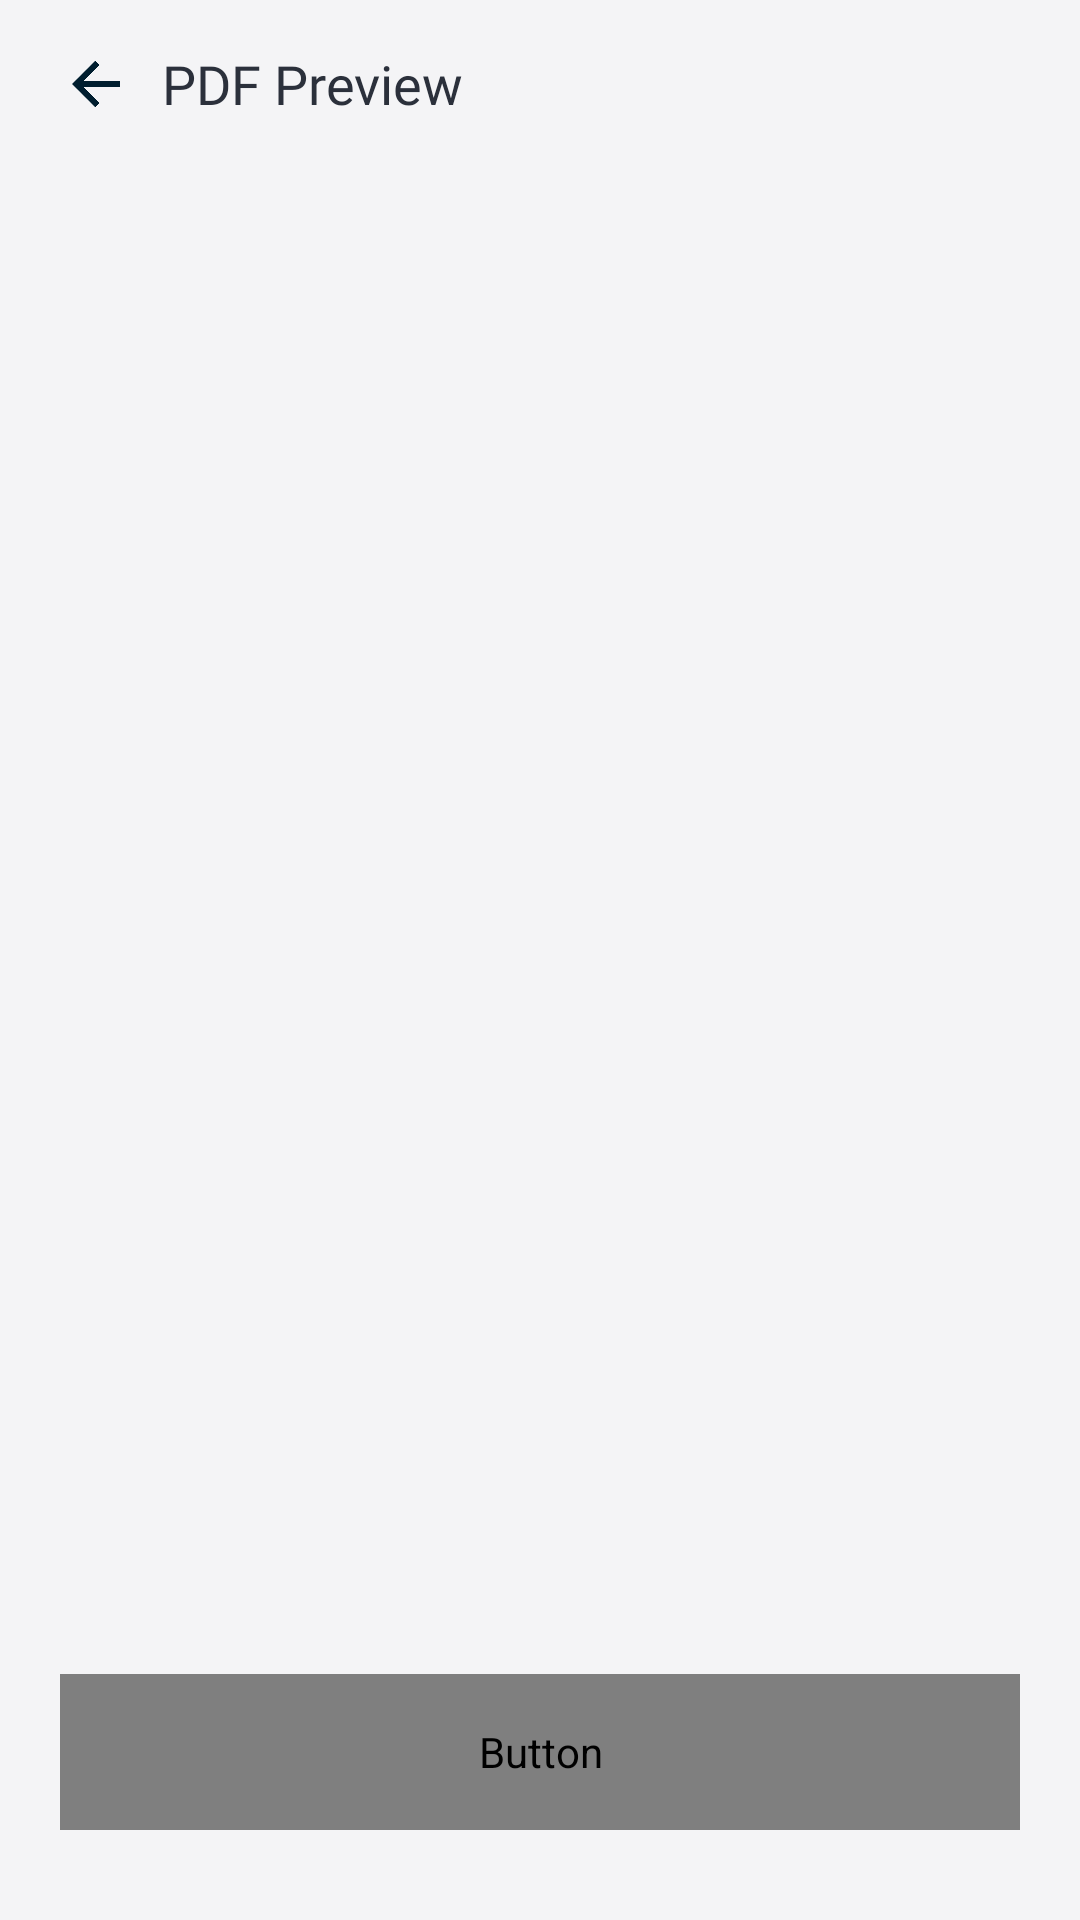

Screen size 1080 × 1920. Icon name, then its box in pixels as [x1, y1, x2, y2]:
back arrow: [72, 61, 120, 107]
